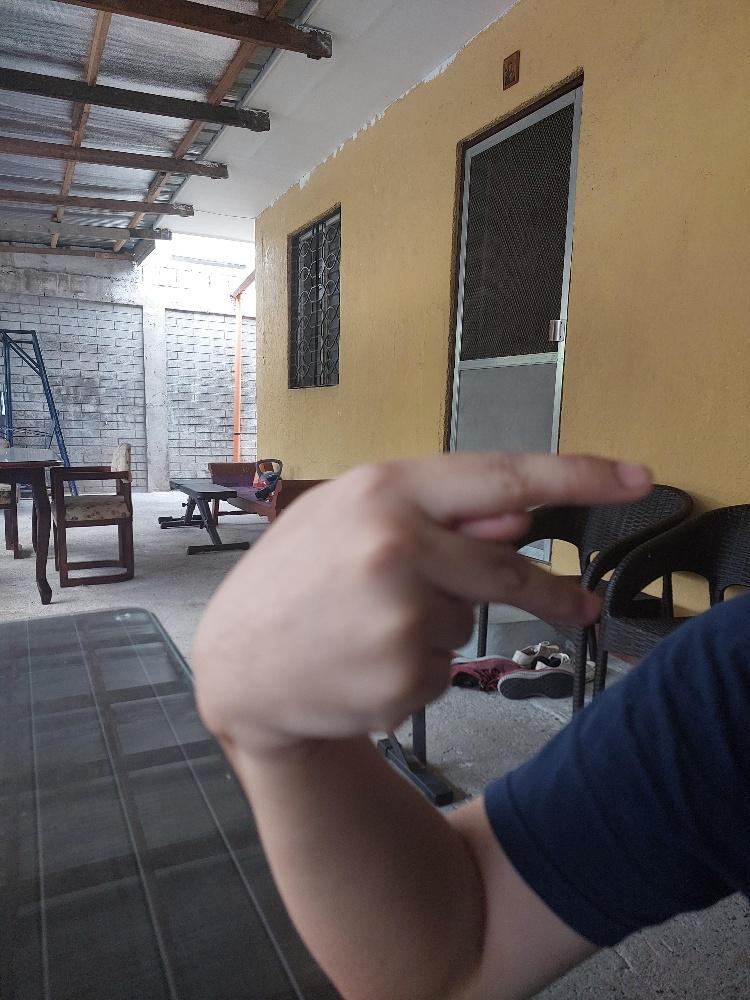k: (188, 443, 657, 744)
